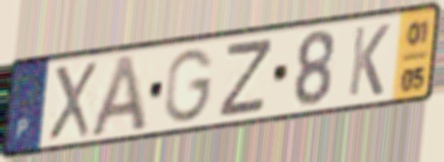8: (293, 28, 338, 110)
A: (87, 51, 150, 141)
G: (163, 46, 218, 126)
K: (345, 21, 393, 100)
X: (45, 59, 99, 144)
Z: (215, 35, 277, 120)
